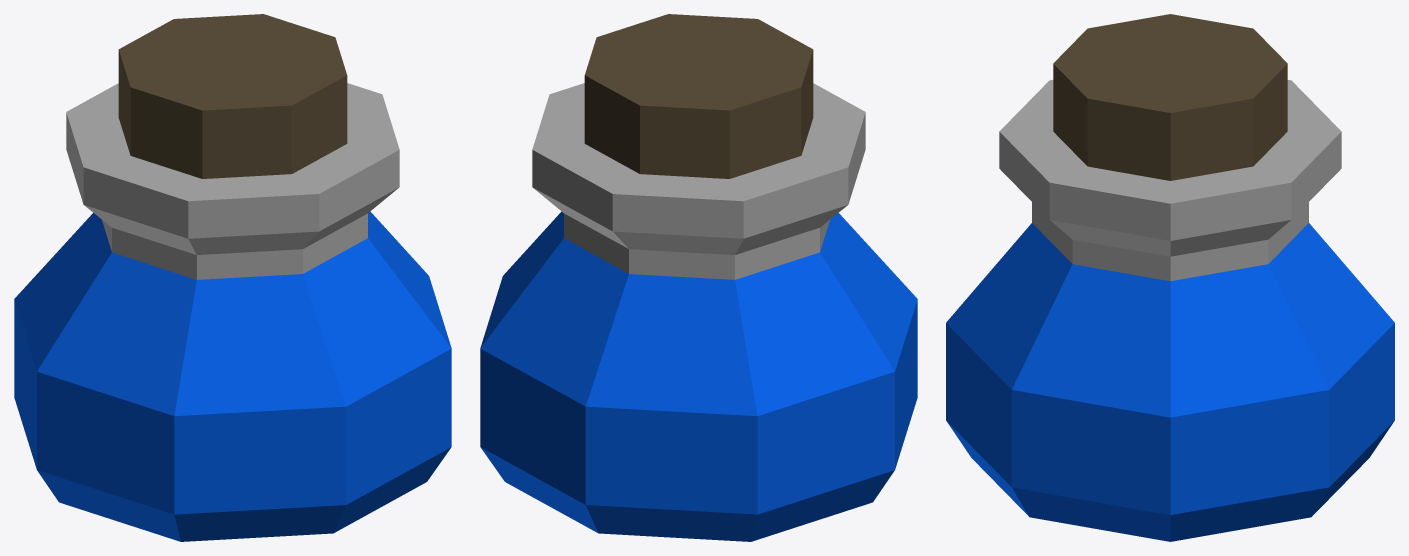
Rendered from MP_portion.fbx.
The picture shows the model from 3 angles, left to right: view 1: azimuth 30°, elevation 25°; view 2: azimuth 150°, elevation 25°; view 3: azimuth 270°, elevation 25°; orthographic projection.
Visible parts, largest first — view 1: polySurface16; view 2: polySurface16; view 3: polySurface16.
Part boxes in pixels (<box>): polySurface16: <box>14,14,451,541</box>; polySurface16: <box>480,14,917,541</box>; polySurface16: <box>946,14,1394,541</box>.
Bounding box in the file's own units: 44.45 × 43.06 × 44.45.
